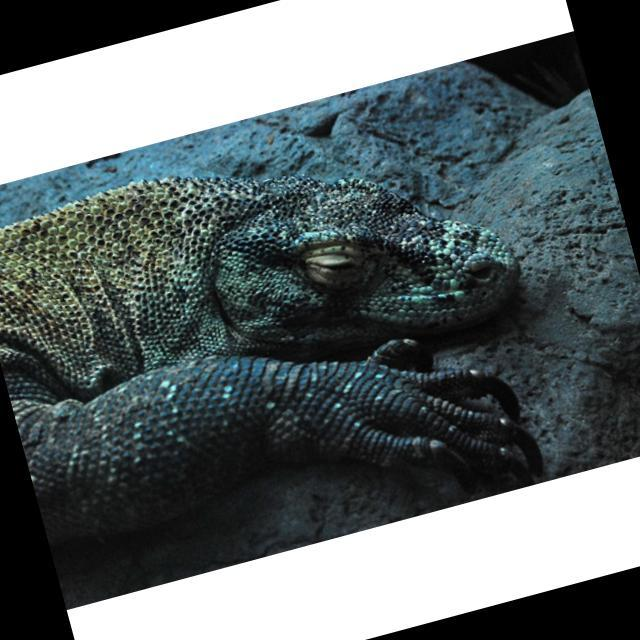KomodoDragon: (0, 88, 575, 606)
